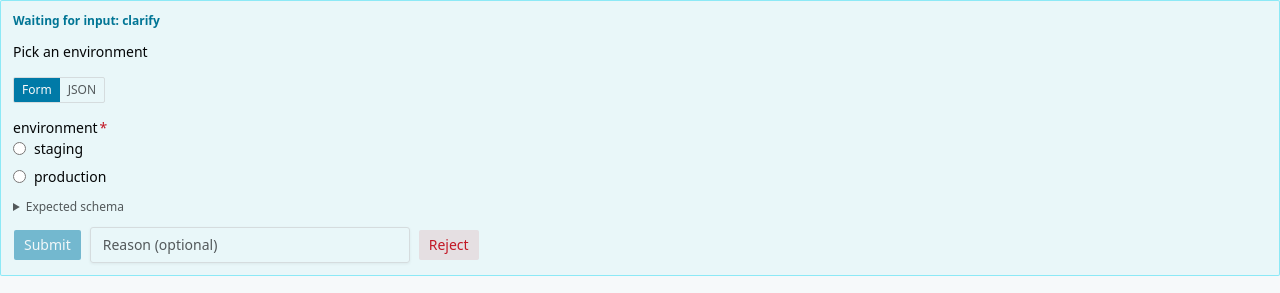
Test: HumanInputForm › generates radio buttons for a string enum schema
The width and height of the screenshot is (1280, 293).
Expected: the radio button labelled "production" is not checked, [13,170,26,183]
Expected: the button "Submit" is disabled, [13,229,82,261]
Click the radio button labelled "staging" at coordinates (20, 149), box [13,142,26,155]
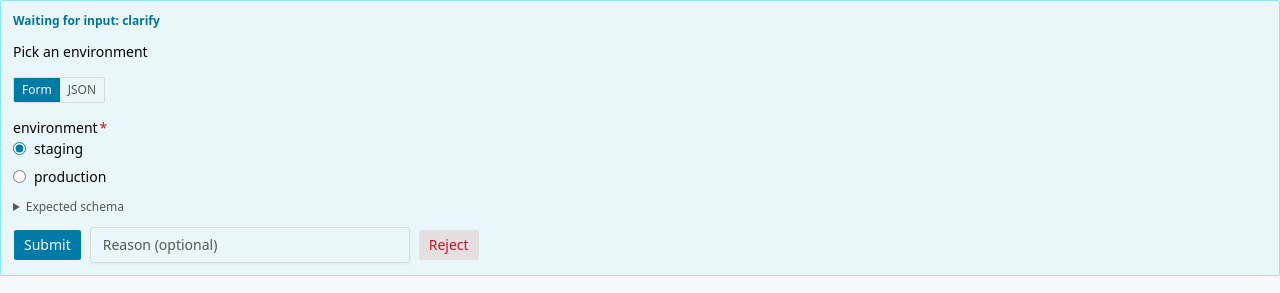
Expected: the radio button labelled "staging" is checked, [13,142,26,155]
Expected: the button "Submit" is enabled, [13,229,82,261]
